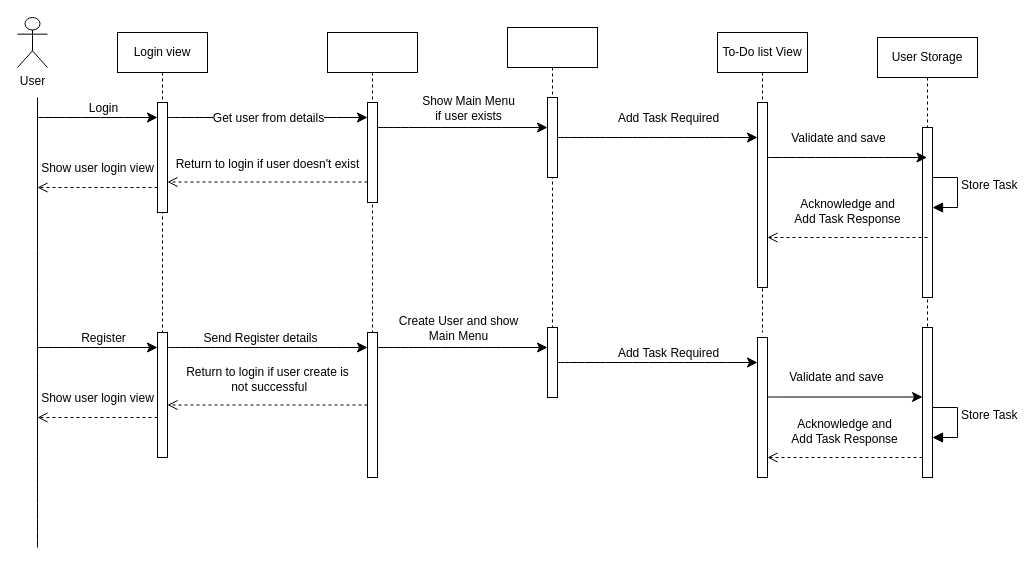
This 1035x566 diagram has some shape labels left out. Here are the shapes that lost their labels. From the top down, the box of each, then its label:
(326, 32, 418, 332): App Database
(506, 26, 598, 328): Main Menu View
